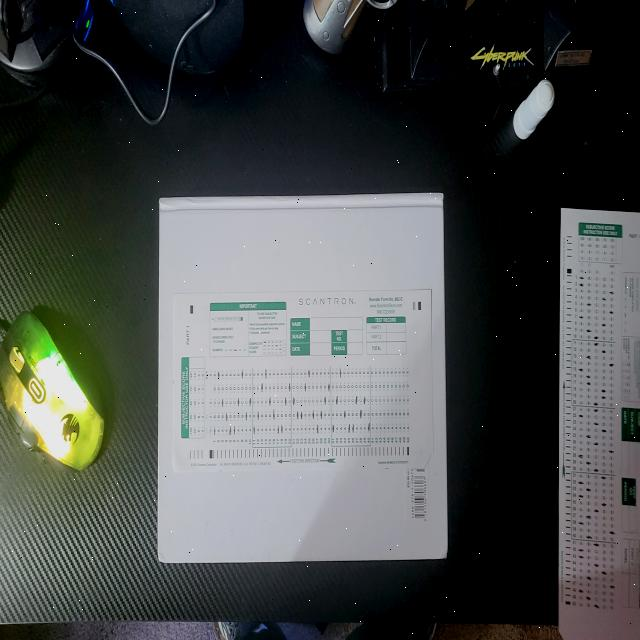scantron: (172, 287, 434, 470)
